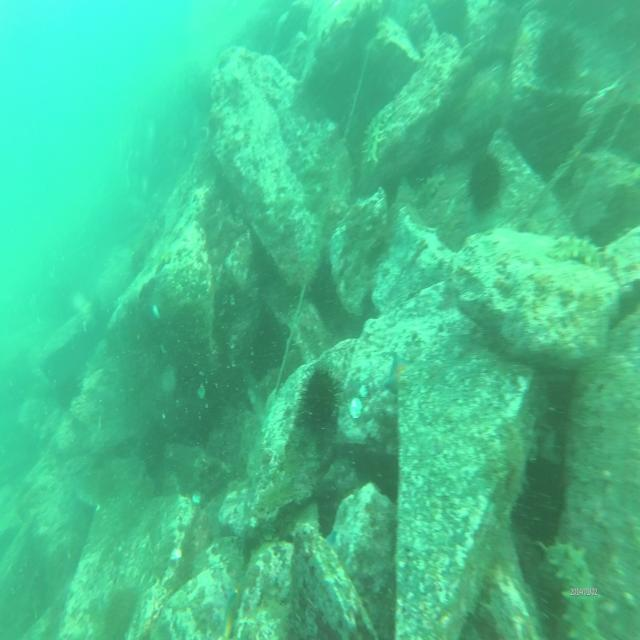echinus: (291, 362, 350, 444), (532, 25, 587, 94), (460, 148, 507, 216)
holothurian: (538, 529, 601, 640), (551, 225, 609, 273)
starfish: (382, 346, 411, 404), (212, 583, 240, 640)
